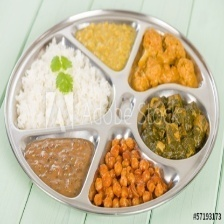rice: (9, 37, 115, 132)
